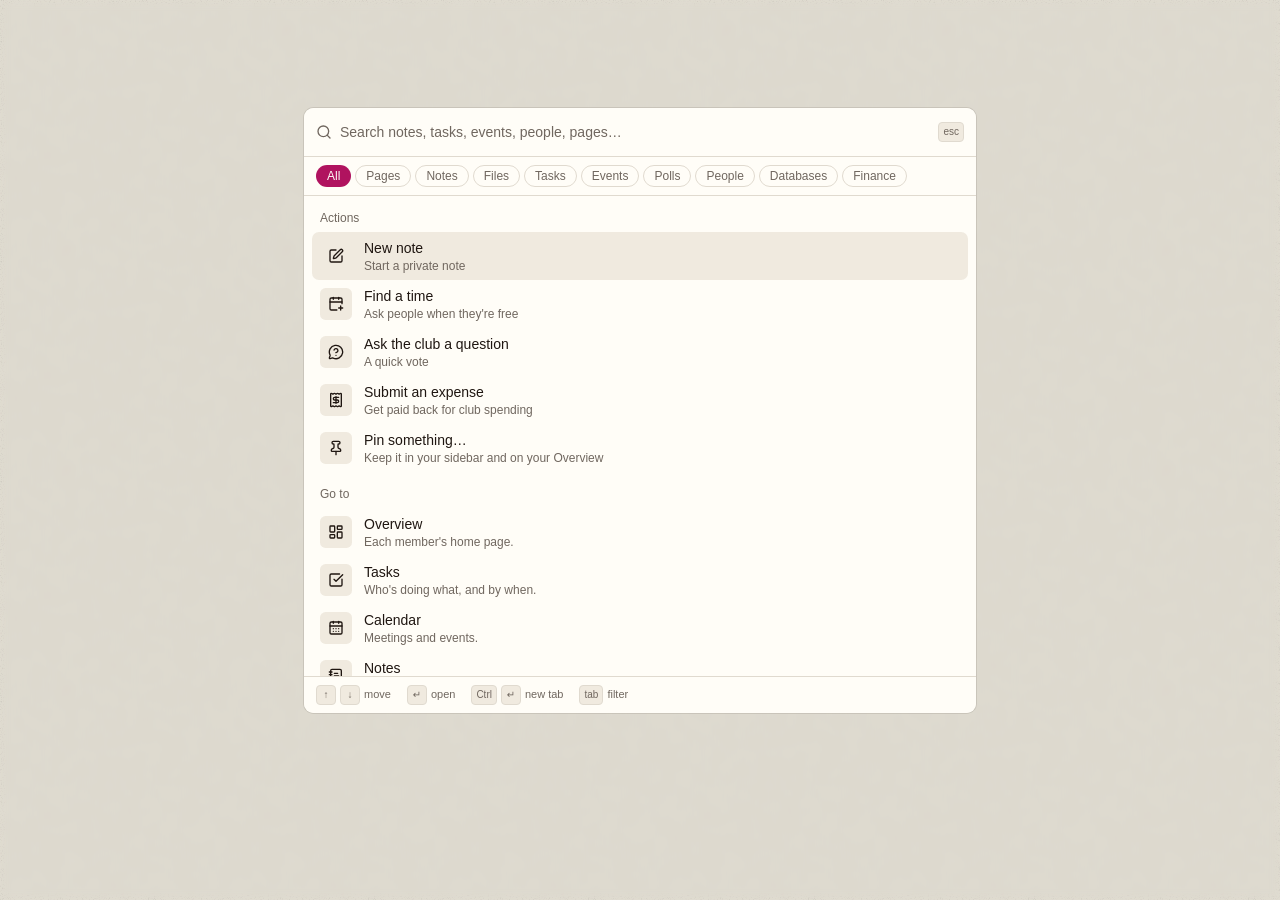
it: CommandPalette › says when search failed and retries on request
The width and height of the screenshot is (1280, 900).
Type "minutes" into the dropdown at (635, 132), box [340,108,930,156]
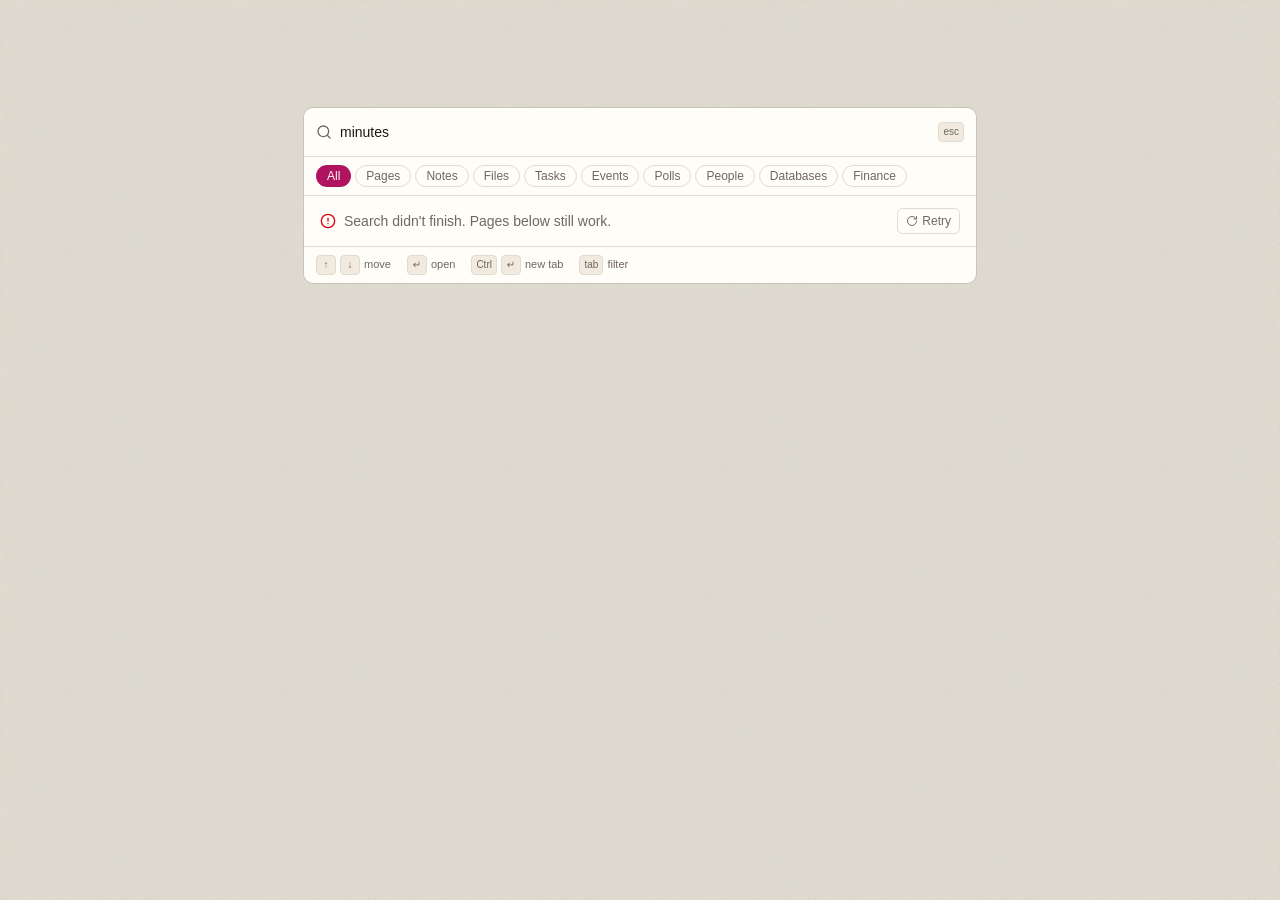
Now the message "Search didn't finish. Pages below still work. Retry" is shown, box [308,200,972,242]
Click the button "Retry" at (929, 221), box [897,208,960,234]
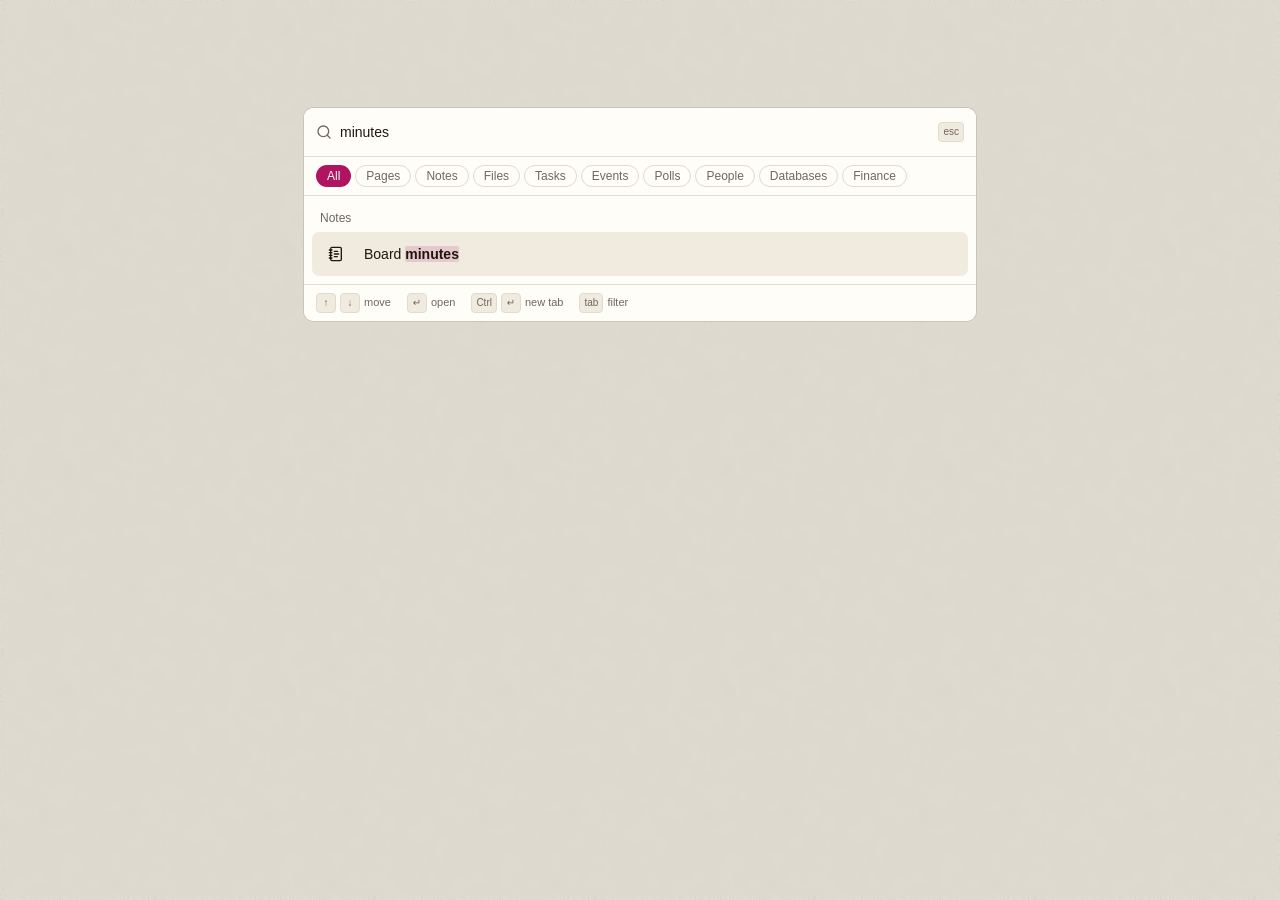
Now the text "Board" is shown, box [364,246,405,262]
Now the message "Search didn't finish. Pages below still work. Retry" is gone
